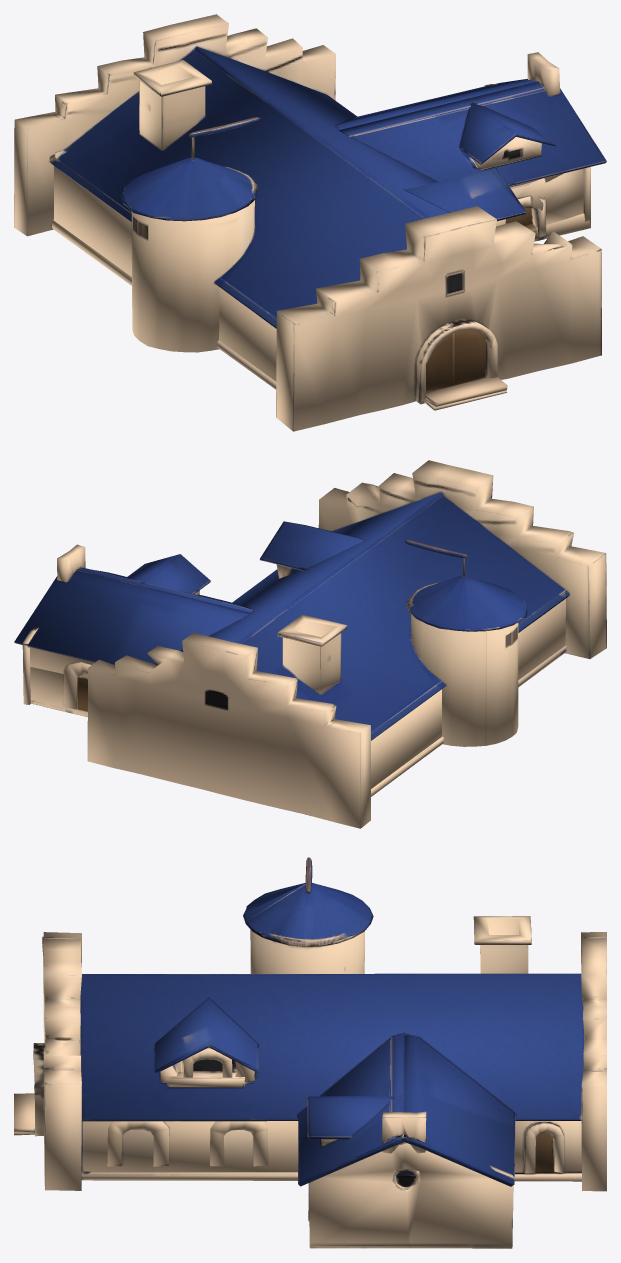
Rendered from meshy-c4-e1.glb.
The picture shows the model from 3 angles, top to bottom: view 1: azimuth 30°, elevation 25°; view 2: azimuth 150°, elevation 25°; view 3: azimuth 270°, elevation 25°; orthographic projection. The views are drawn at different scales.
Bounding box in the file's own units: 0.9278 × 0.3669 × 1.
1 material, 1 textured.
